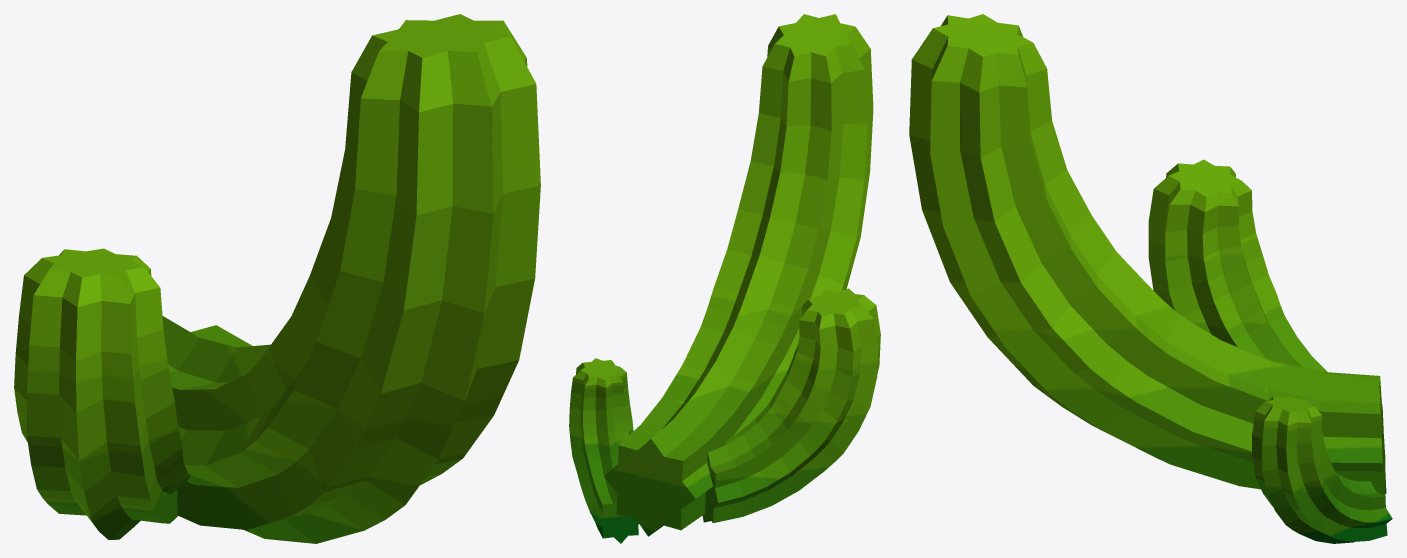
The model's file is hookable_cactus 1.fbx.
3 views of the same model, side by side, from view 1: azimuth 30°, elevation 25°; view 2: azimuth 150°, elevation 25°; view 3: azimuth 270°, elevation 25° (orthographic). The views are drawn at different scales.
Visible parts, largest first — view 1: Cylinder.003; view 2: Cylinder.003; view 3: Cylinder.003.
Part boxes in pixels (<box>): Cylinder.003: <box>14,14,540,543</box>; Cylinder.003: <box>569,14,880,543</box>; Cylinder.003: <box>909,14,1392,543</box>.
Bounding box in the file's own units: 497 × 718 × 643.
